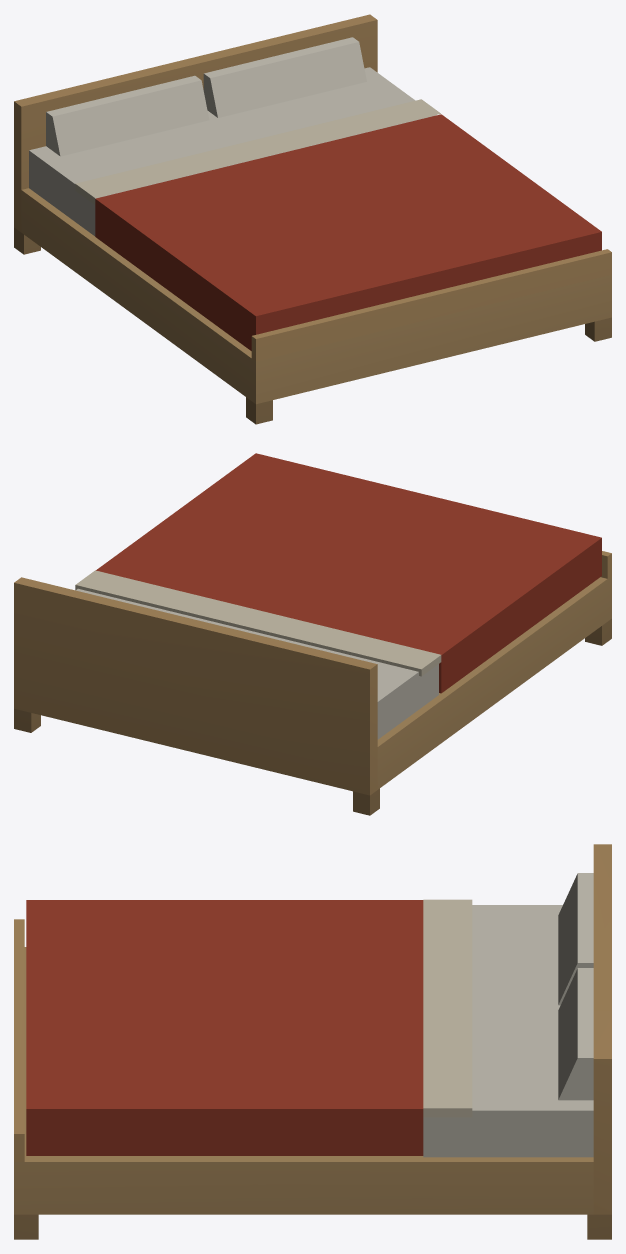
Rendered from bed.double.red.glb.
3 renders of one model, top to bottom at view 1: azimuth 30°, elevation 25°; view 2: azimuth 150°, elevation 25°; view 3: azimuth 270°, elevation 25°, orthographic. The views are drawn at different scales.
Visible parts, largest first — view 1: bed_double_red; view 2: bed_double_red; view 3: bed_double_red.
Part boxes in pixels (bbox=[...]): bed_double_red: bbox=[14, 14, 611, 424]; bed_double_red: bbox=[14, 453, 611, 815]; bed_double_red: bbox=[14, 844, 611, 1239].
Size of what is drawn, in the model's own units: 1.66 by 0.65 by 1.95.
